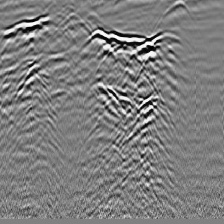cavities: (82, 26, 164, 137), (3, 11, 52, 87)
